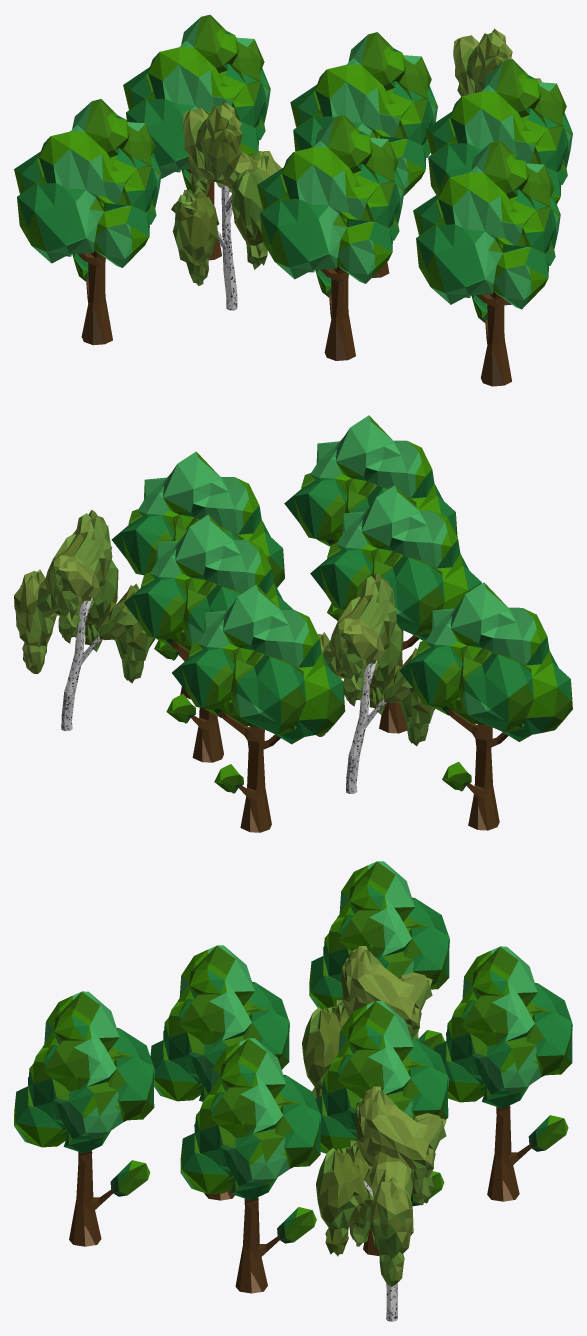
File: tree1.fbx
The picture shows the model from 3 angles, top to bottom: view 1: azimuth 30°, elevation 25°; view 2: azimuth 150°, elevation 25°; view 3: azimuth 270°, elevation 25°; orthographic projection. The views are drawn at different scales.
Visible parts, largest first — view 1: _4_tree2, _4_tree, _4_tree4, _4_tree3, _4_tree1, _10_tree, _4_tree5, _10_tree1; view 2: _4_tree2, _4_tree3, _4_tree, _10_tree1, _4_tree1, _4_tree4, _4_tree5, _10_tree; view 3: _4_tree5, _4_tree4, _4_tree3, _10_tree1, _4_tree, _4_tree1, _4_tree2, _10_tree.
Boxes of the visible parts, left/top/right/bottom form: _4_tree2: left=14, top=99, right=161, bottom=345; _4_tree: left=257, top=115, right=404, bottom=360; _4_tree4: left=413, top=140, right=560, bottom=386; _4_tree3: left=123, top=14, right=270, bottom=260; _4_tree1: left=290, top=32, right=437, bottom=278; _10_tree: left=171, top=101, right=281, bottom=310; _4_tree5: left=425, top=59, right=572, bottom=305; _10_tree1: left=453, top=28, right=541, bottom=96; _4_tree2: left=399, top=582, right=572, bottom=830; _4_tree3: left=172, top=584, right=345, bottom=832; _4_tree: left=310, top=485, right=481, bottom=733; _10_tree1: left=14, top=510, right=155, bottom=731; _4_tree1: left=124, top=514, right=293, bottom=762; _4_tree4: left=284, top=415, right=457, bottom=620; _4_tree5: left=111, top=451, right=284, bottom=699; _10_tree: left=316, top=572, right=434, bottom=793; _4_tree5: left=180, top=1038, right=321, bottom=1293; _4_tree4: left=14, top=991, right=154, bottom=1246; _4_tree3: left=434, top=946, right=572, bottom=1201; _10_tree1: left=316, top=1086, right=446, bottom=1321; _4_tree: left=150, top=945, right=289, bottom=1200; _4_tree1: left=315, top=1001, right=448, bottom=1256; _4_tree2: left=309, top=861, right=449, bottom=1050; _10_tree: left=302, top=946, right=432, bottom=1098.
Bounding box in the file's own units: 784 × 336 × 680.
Materials: 2 (2 with a texture image).
